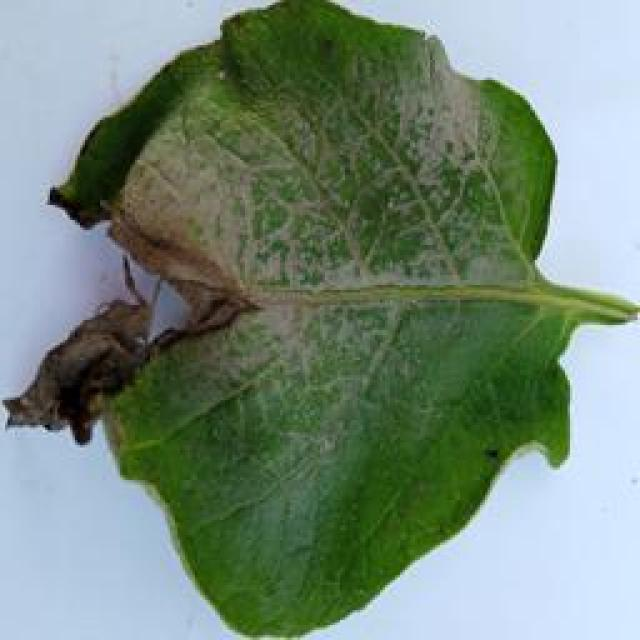Potato_Late_Blight: (5, 3, 627, 636)
